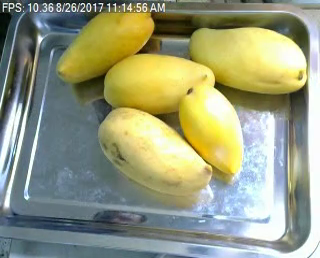Mango: (97, 108, 211, 194), (56, 2, 155, 85), (192, 27, 309, 94), (104, 53, 214, 115), (181, 85, 243, 175)
